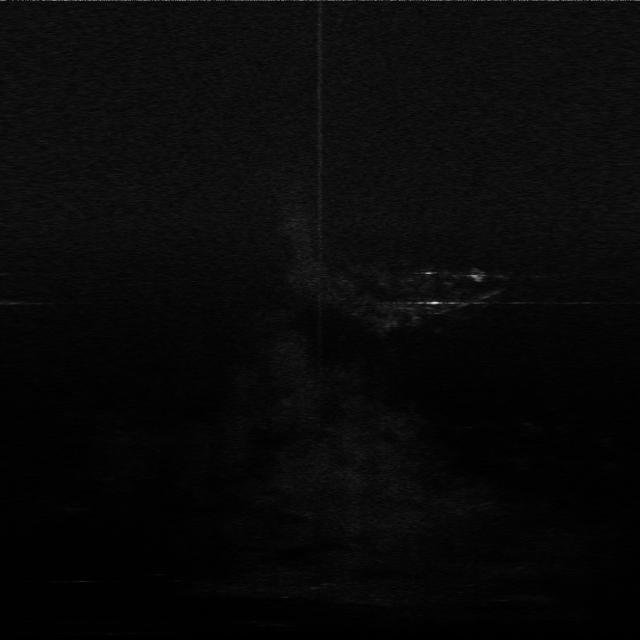rov: (466, 268, 492, 284)
